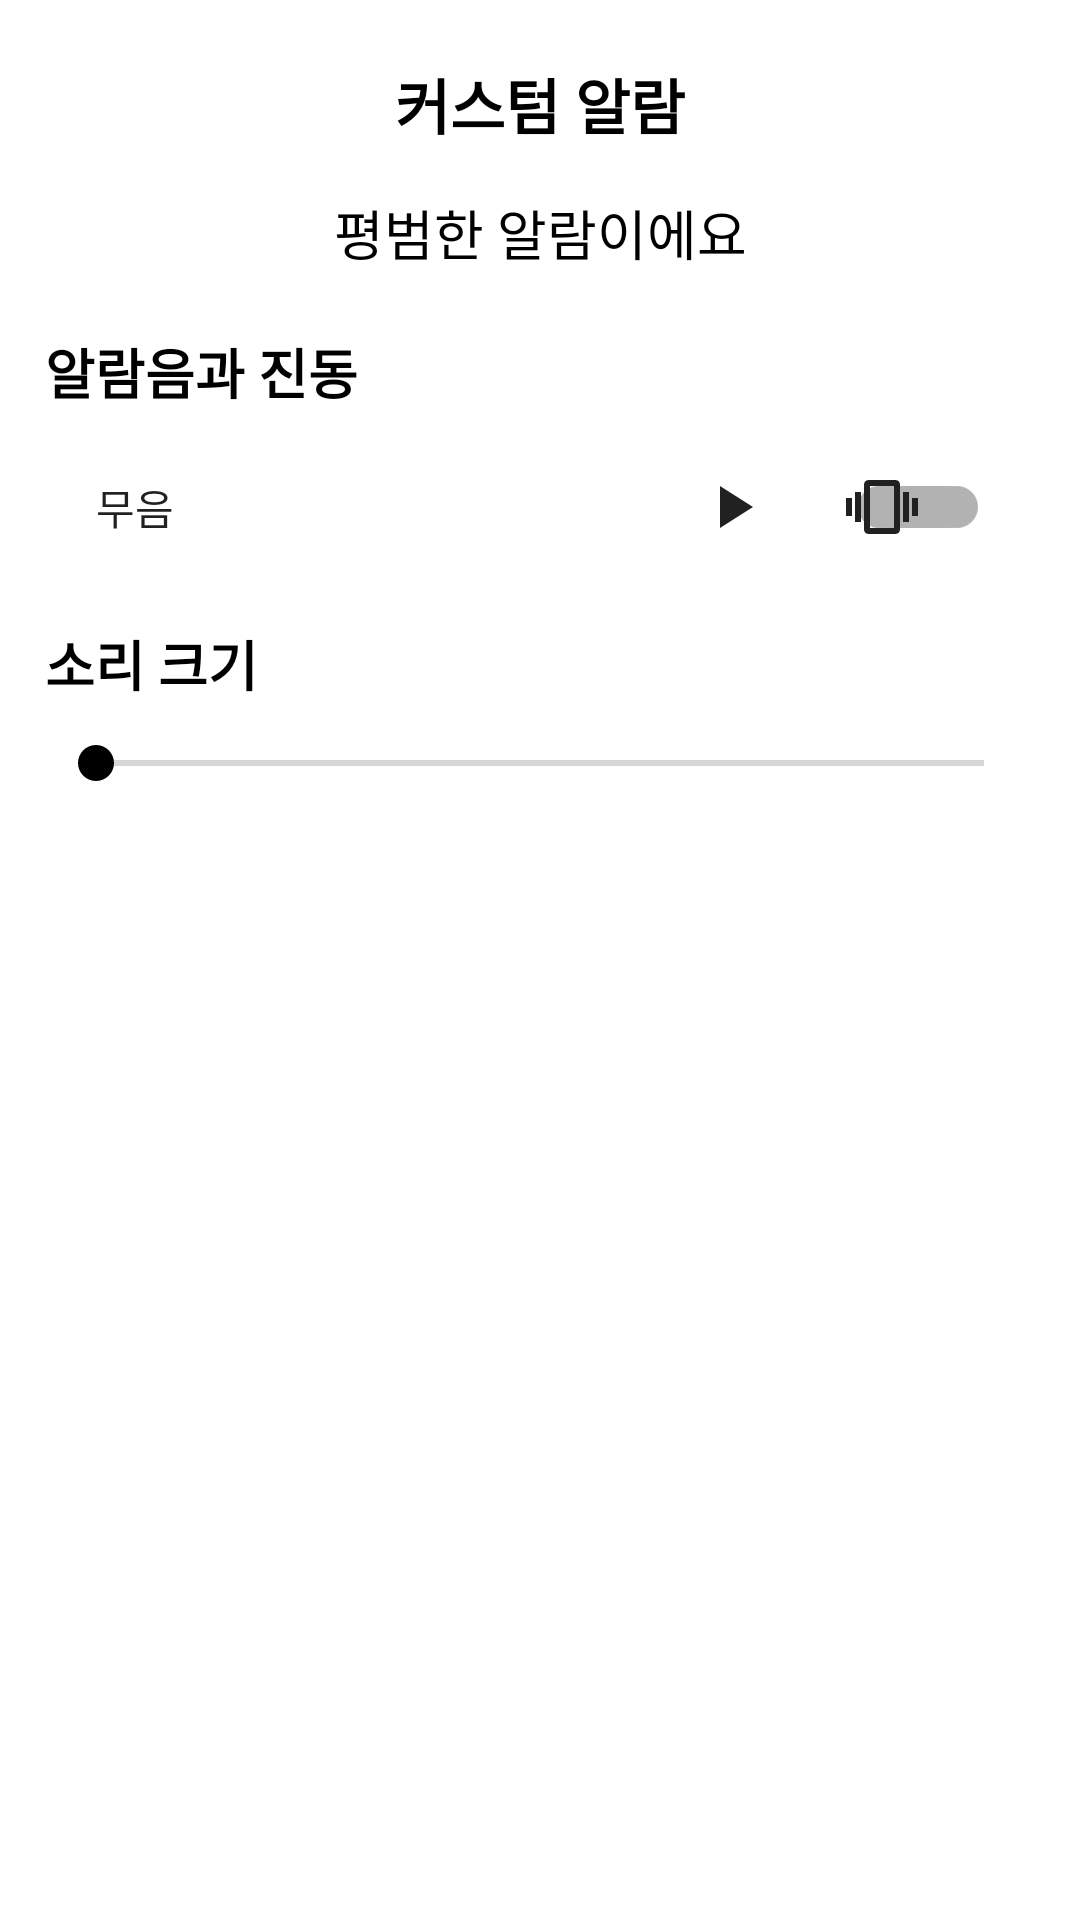

Icons on this 1080w x 1920h Android screen, each with its box as (x1, y1, x2, y2):
play arrow: (720, 486, 753, 528)
